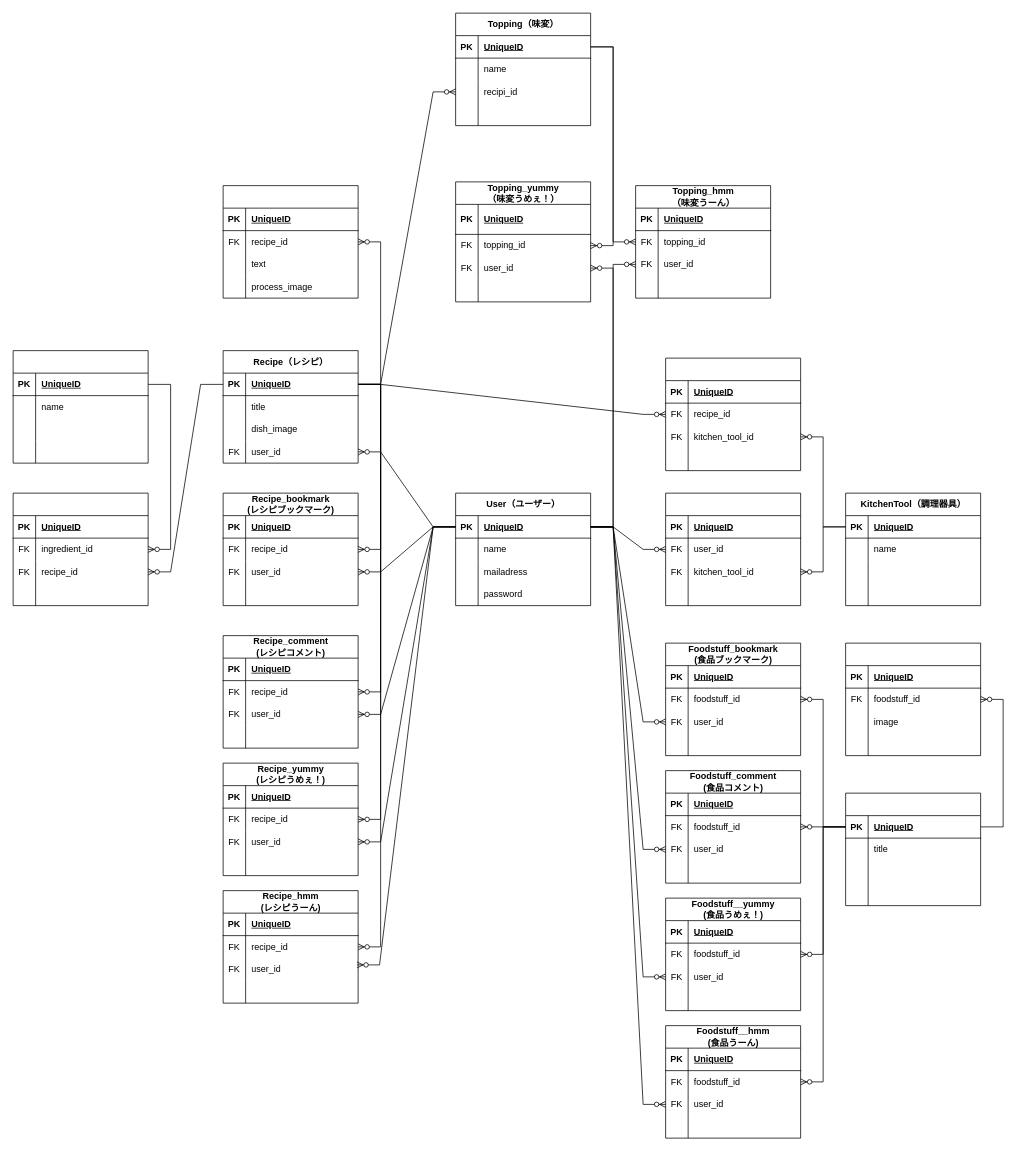
The diagram is 1022 pixels wide and 1151 high, and some of its shapes have lost their labels. Here are the shapes that lost their labels. From the top down, the box of each, then its label:
(222, 185, 358, 298): Process（調理工程）
(12, 350, 148, 463): Ingredient（材料）
(665, 357, 801, 471): RecipeKitchenTool （必要調理器具）
(12, 492, 148, 606): Need-Ingredient （必要な材料）
(665, 492, 801, 606): UserKitchenTool （所有調理器具）
(845, 642, 981, 756): Foodstuff_image（食品画像）
(845, 792, 981, 906): Foodstuff（食品）
